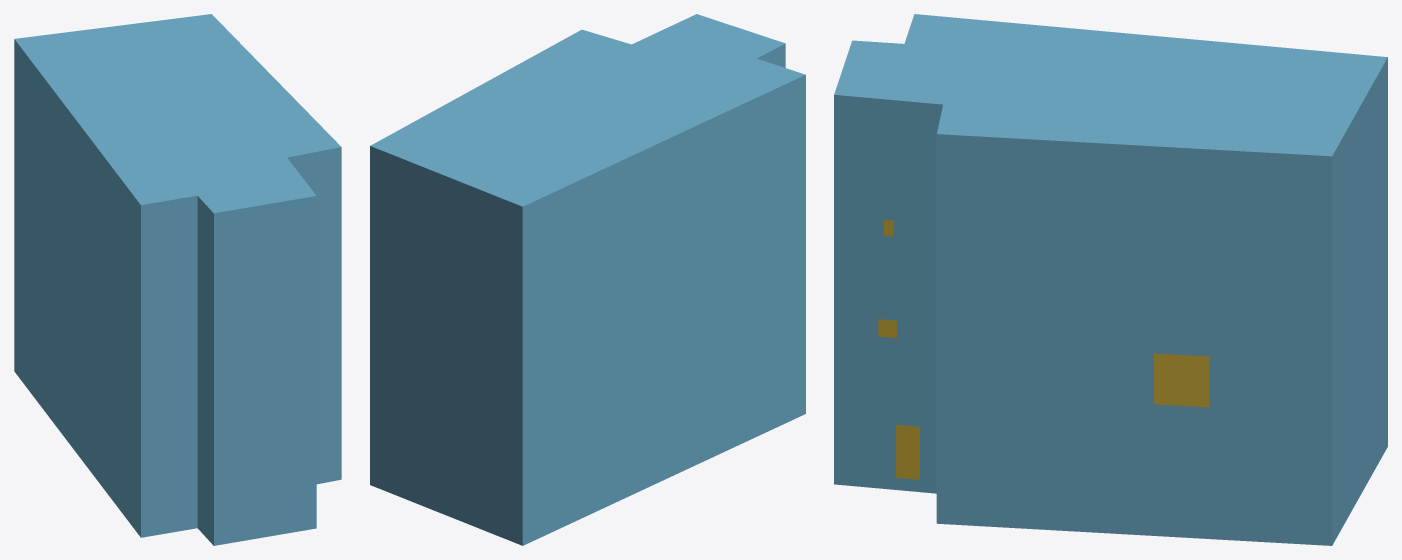
File: bldg_30562cce-fd26-4b68-b839-874b0f491899.obj
3 views of the same model, side by side, from view 1: azimuth 30°, elevation 25°; view 2: azimuth 150°, elevation 25°; view 3: azimuth 270°, elevation 25° (orthographic). The views are drawn at different scales.
Bounding box in the file's own units: 9.99 × 12.75 × 16.43.
